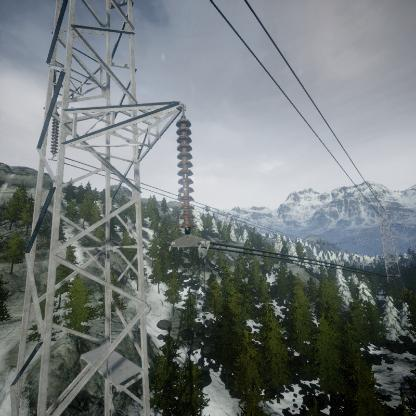insulator: (175, 115, 197, 235), (50, 112, 59, 156)
tower: (362, 187, 414, 283)
